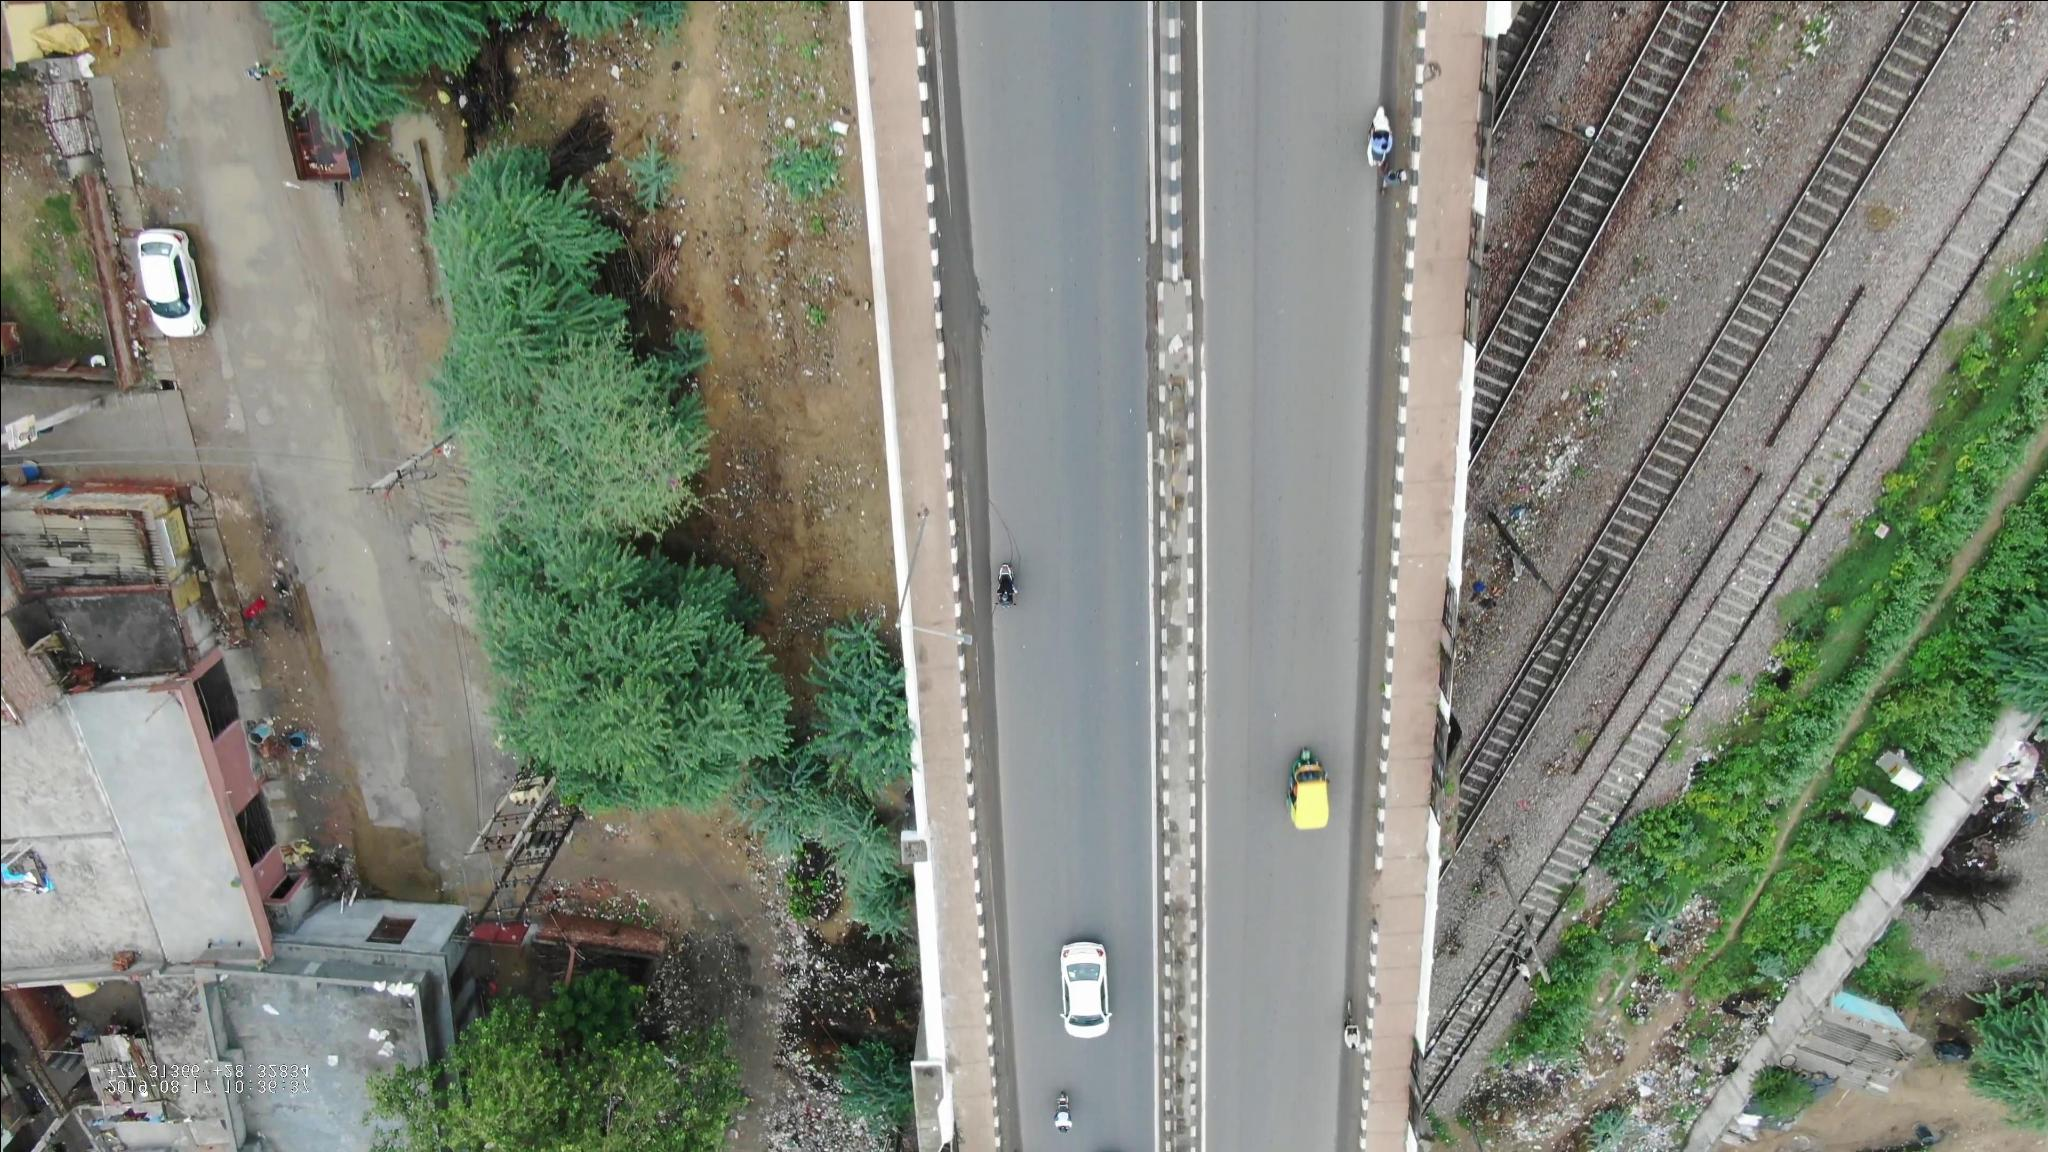Potholes: (226, 318, 350, 430)
